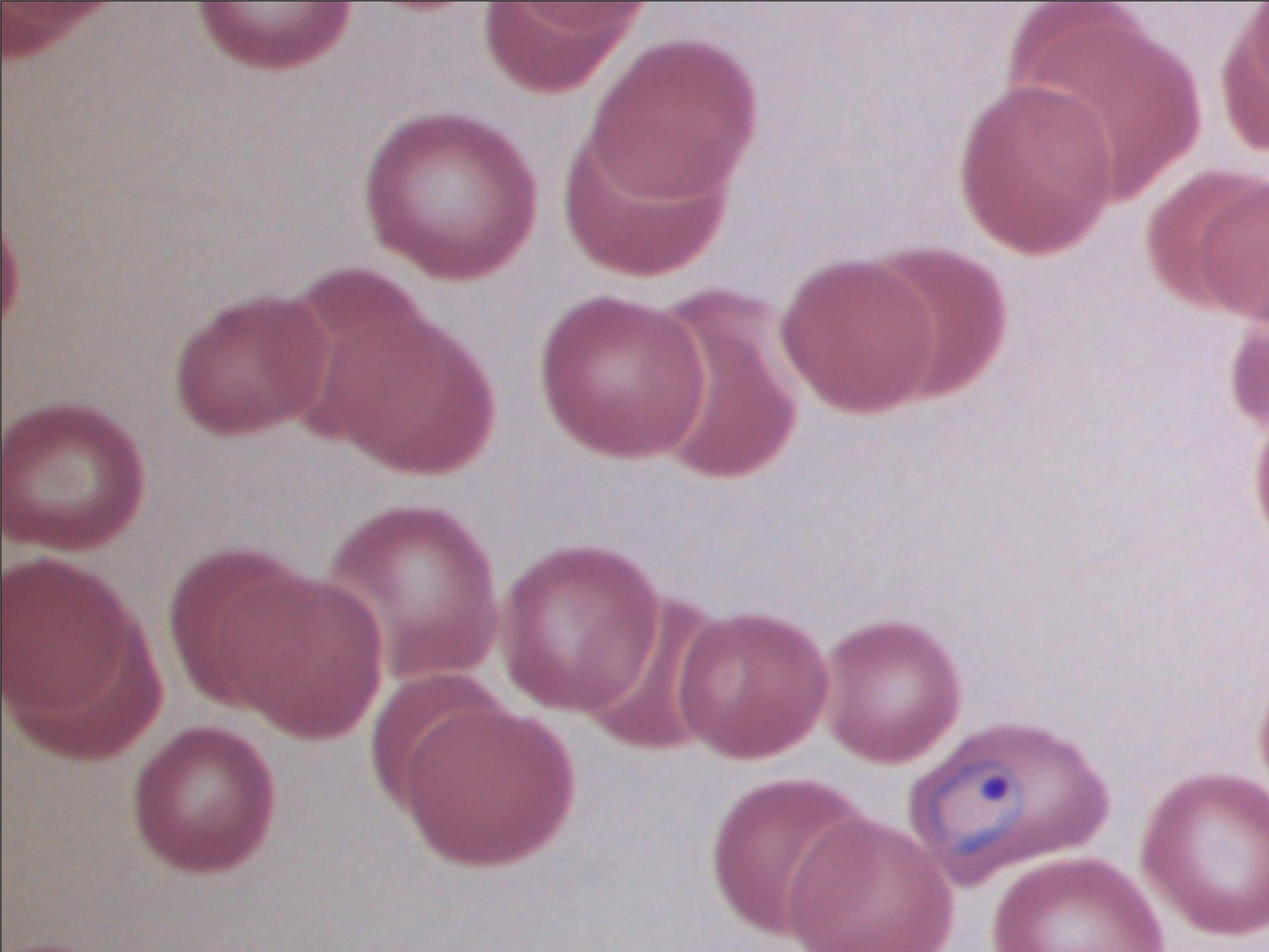Infected: (150, 60, 357, 232)
Uninfected: (73, 743, 254, 929), (557, 490, 727, 655), (835, 509, 997, 682), (511, 743, 679, 905), (767, 272, 928, 435), (736, 672, 896, 836), (888, 210, 1047, 373), (538, 197, 690, 364), (159, 686, 303, 858), (330, 534, 485, 693), (701, 82, 853, 242), (540, 672, 693, 830), (775, 470, 936, 620), (399, 7, 554, 160), (465, 474, 598, 652), (935, 512, 1096, 657), (617, 241, 761, 400), (320, 0, 483, 137), (0, 16, 134, 178), (1128, 395, 1266, 549), (308, 181, 446, 331), (449, 192, 590, 338), (1135, 232, 1269, 385), (260, 549, 398, 696), (996, 78, 1128, 223), (972, 245, 1093, 403), (773, 135, 896, 279)
